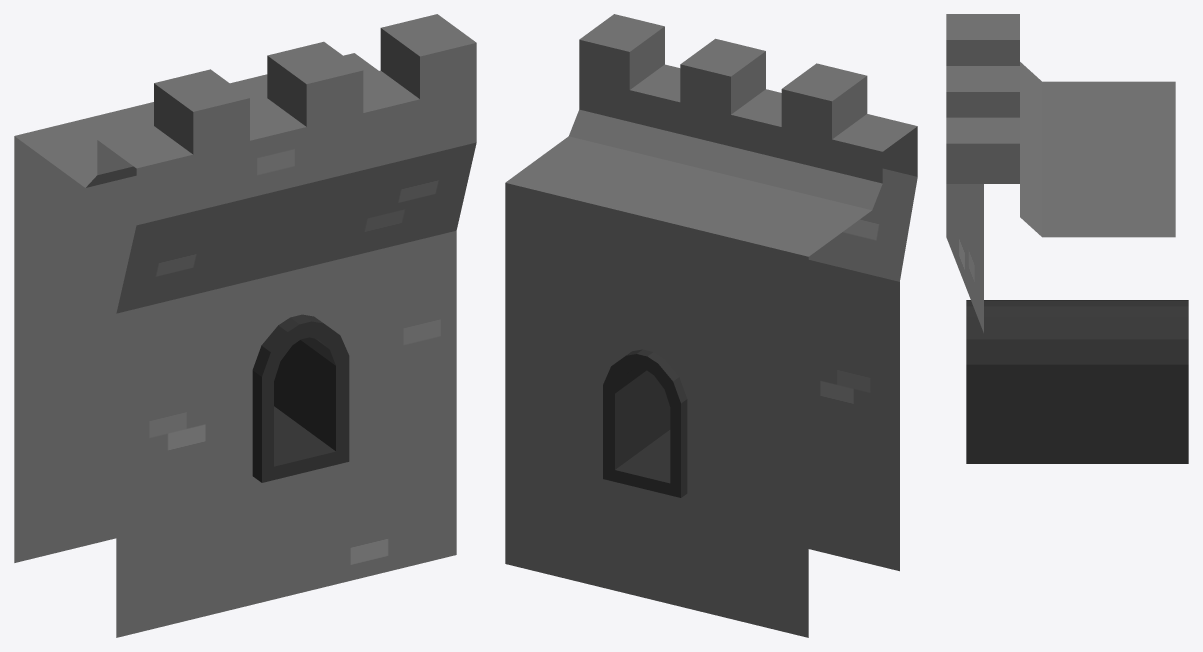
The model's file is Muralla(Finestra).FBX.
The picture shows the model from 3 angles, left to right: view 1: azimuth 30°, elevation 25°; view 2: azimuth 150°, elevation 25°; view 3: azimuth 270°, elevation 25°; orthographic projection. The views are drawn at different scales.
Visible parts, largest first — view 1: Box008; view 2: Box008; view 3: Box008.
Part boxes in pixels (<box>): Box008: <box>14,14,476,637</box>; Box008: <box>505,14,917,637</box>; Box008: <box>946,14,1188,463</box>.
Size of the model in its own units: 25 by 37 by 16.44.
